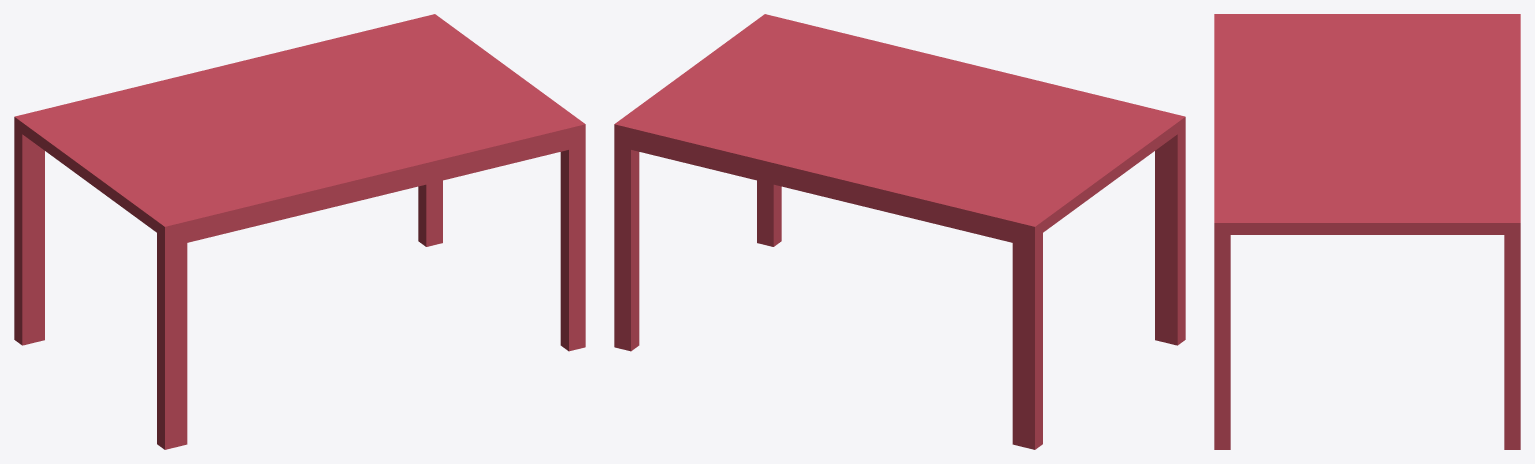
The model's file is Mighty Bigery-Bombul.glb.
3 renders of one model, left to right at view 1: azimuth 30°, elevation 25°; view 2: azimuth 150°, elevation 25°; view 3: azimuth 270°, elevation 25°, orthographic.
Visible parts, largest first — view 1: Mesh_Mesh_head_geo.001_lambert2SG.001; view 2: Mesh_Mesh_head_geo.001_lambert2SG.001; view 3: Mesh_Mesh_head_geo.001_lambert2SG.001.
Part boxes in pixels (box(x1,y1,x2,y2)): Mesh_Mesh_head_geo.001_lambert2SG.001: box(14, 14, 585, 449); Mesh_Mesh_head_geo.001_lambert2SG.001: box(614, 14, 1185, 449); Mesh_Mesh_head_geo.001_lambert2SG.001: box(1214, 14, 1520, 449).
Size of the model in its own units: 150 by 76 by 93.
